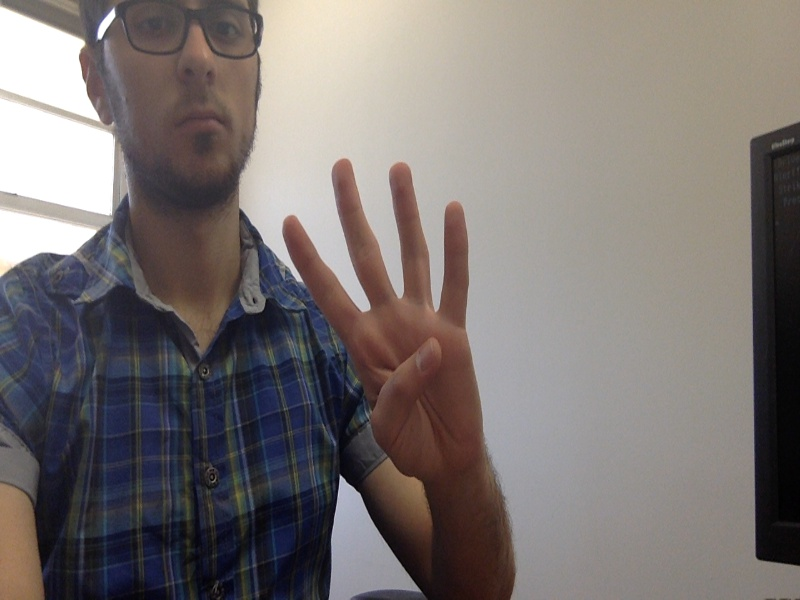4-hand: (282, 158, 485, 487)
